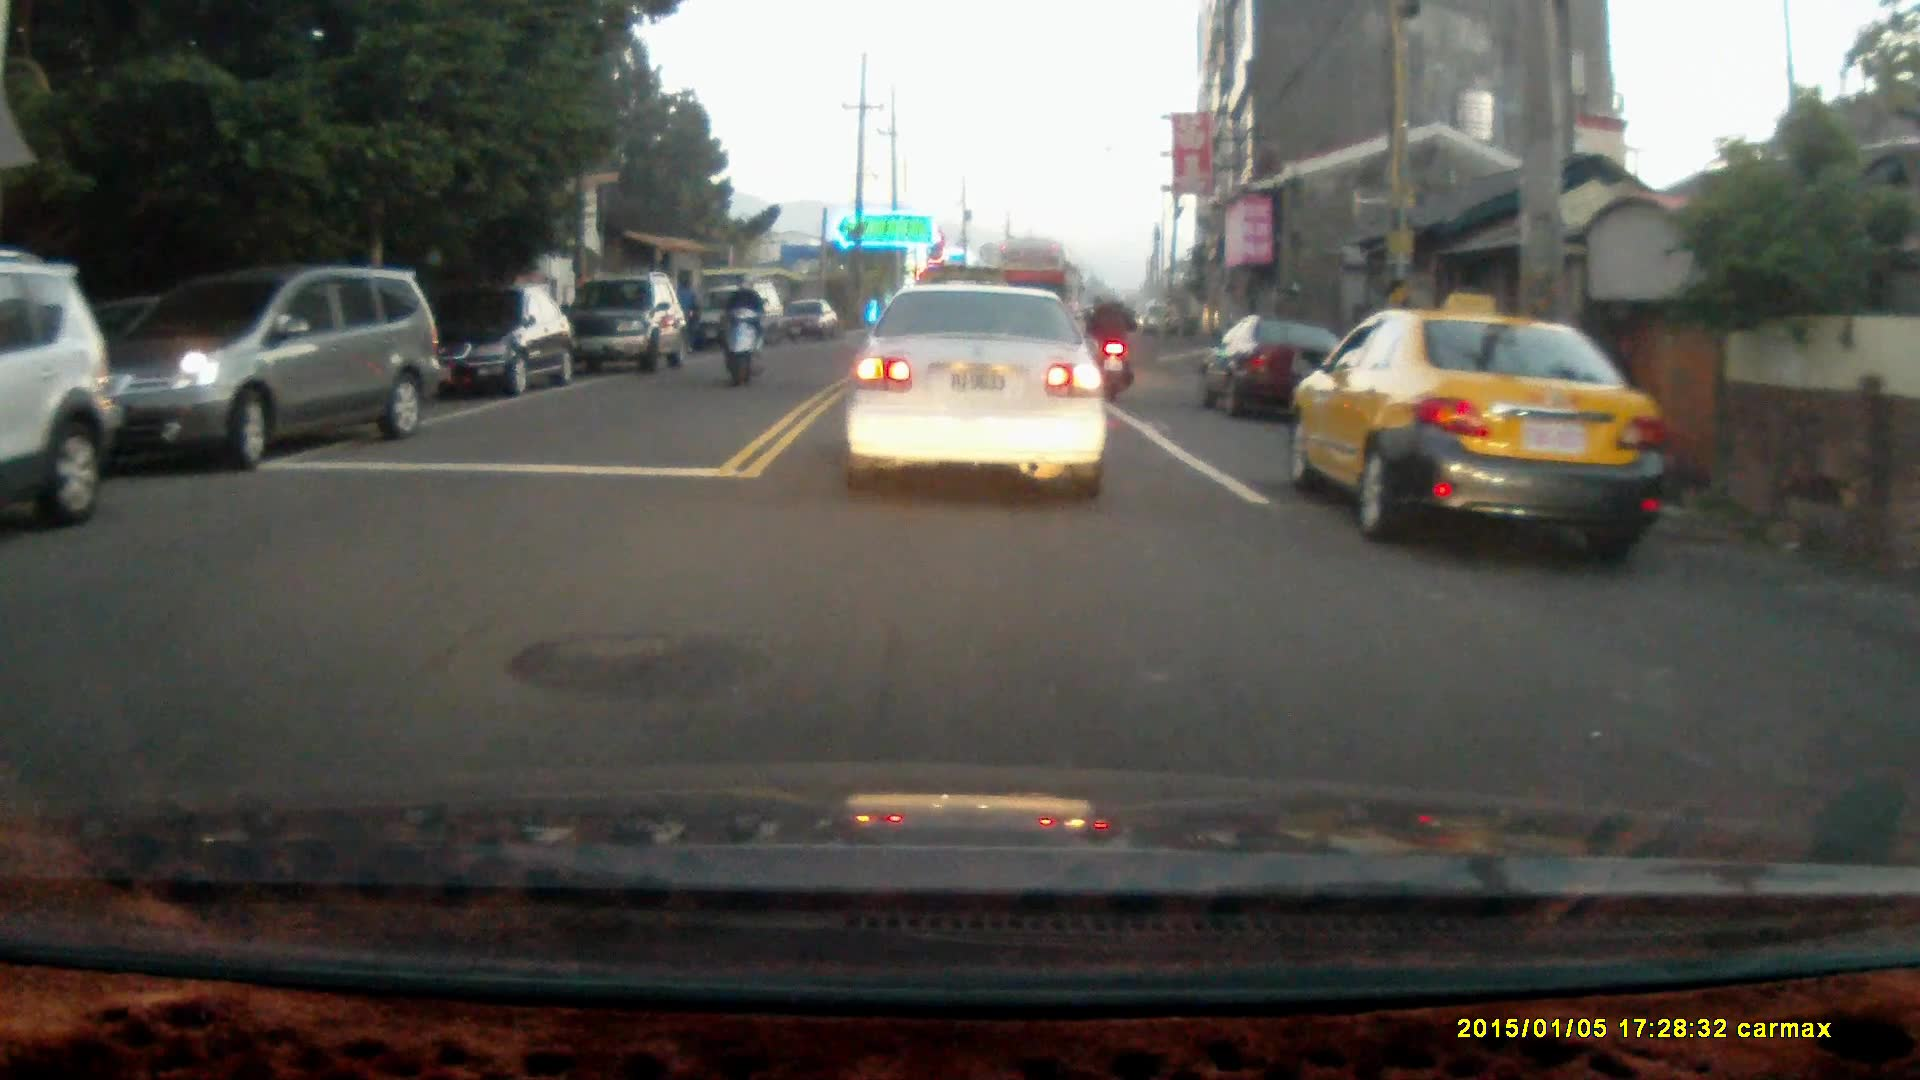rider: (1080, 284, 1138, 407), (713, 271, 762, 391)
vehicle: (1283, 309, 1665, 562), (82, 273, 443, 477), (839, 282, 1115, 504), (1, 251, 105, 543), (416, 284, 570, 401), (1206, 311, 1342, 418), (562, 277, 686, 377), (691, 288, 779, 356), (776, 299, 838, 344)
